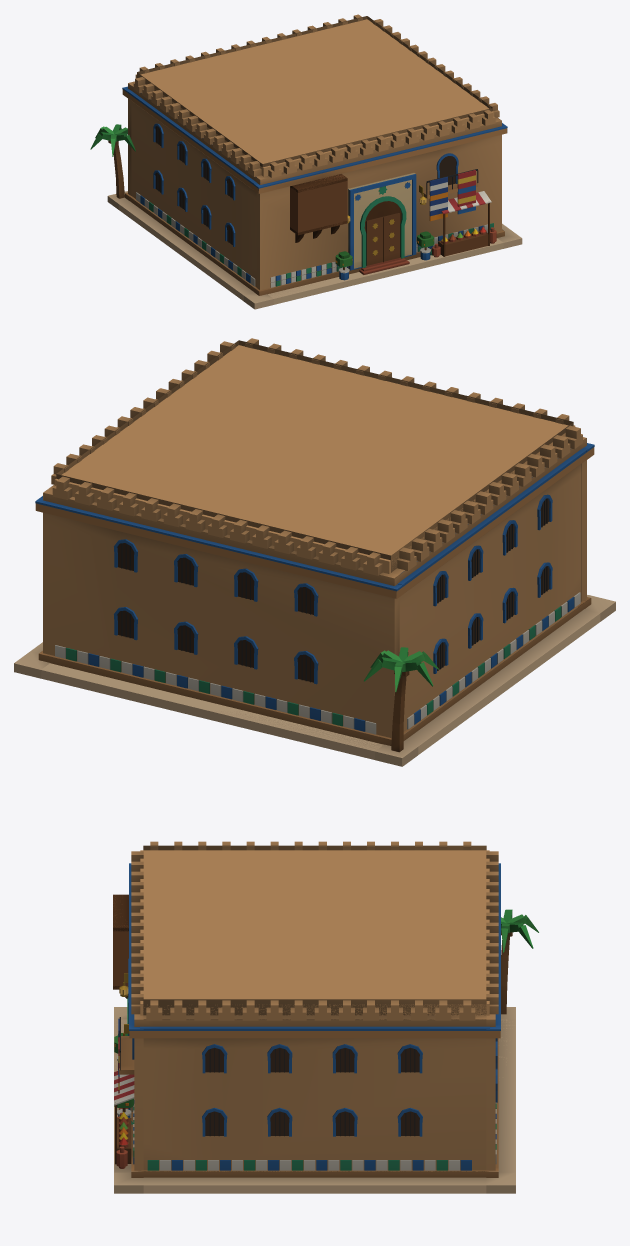
The model's file is CobraFountainFloor.fbx.
The picture shows the model from 3 angles, top to bottom: view 1: azimuth 30°, elevation 25°; view 2: azimuth 150°, elevation 25°; view 3: azimuth 270°, elevation 25°; orthographic projection. The views are drawn at different scales.
Parts seen in each view (by area): view 1: MQ_S_All, MQ_F_Rings, MQ_F_Smooth, MQ_F_Props, MQ_F_Quiet, MQ_F_Glass; view 2: MQ_S_All, MQ_F_Rings, MQ_F_Smooth, MQ_F_Quiet, MQ_F_Glass, MQ_F_Props; view 3: MQ_S_All, MQ_F_Rings, MQ_F_Smooth, MQ_F_Quiet, MQ_F_Glass, MQ_F_Props.
Part boxes in pixels (left/top/right/bottom): MQ_S_All: left=108, top=19, right=522, bottom=309; MQ_F_Rings: left=128, top=16, right=501, bottom=290; MQ_F_Smooth: left=90, top=14, right=521, bottom=309; MQ_F_Props: left=99, top=124, right=496, bottom=280; MQ_F_Quiet: left=108, top=99, right=521, bottom=303; MQ_F_Glass: left=155, top=126, right=456, bottom=244; MQ_S_All: left=14, top=345, right=615, bottom=766; MQ_F_Rings: left=43, top=340, right=586, bottom=737; MQ_F_Smooth: left=14, top=338, right=615, bottom=766; MQ_F_Quiet: left=15, top=460, right=615, bottom=757; MQ_F_Glass: left=117, top=498, right=549, bottom=682; MQ_F_Props: left=378, top=647, right=426, bottom=752; MQ_S_All: left=113, top=850, right=515, bottom=1193; MQ_F_Rings: left=131, top=845, right=498, bottom=1171; MQ_F_Smooth: left=113, top=841, right=538, bottom=1193; MQ_F_Quiet: left=114, top=1007, right=515, bottom=1185; MQ_F_Glass: left=119, top=988, right=419, bottom=1135; MQ_F_Props: left=114, top=909, right=527, bottom=1163.
Bounding box in the file's own units: 60 × 20 × 60.
